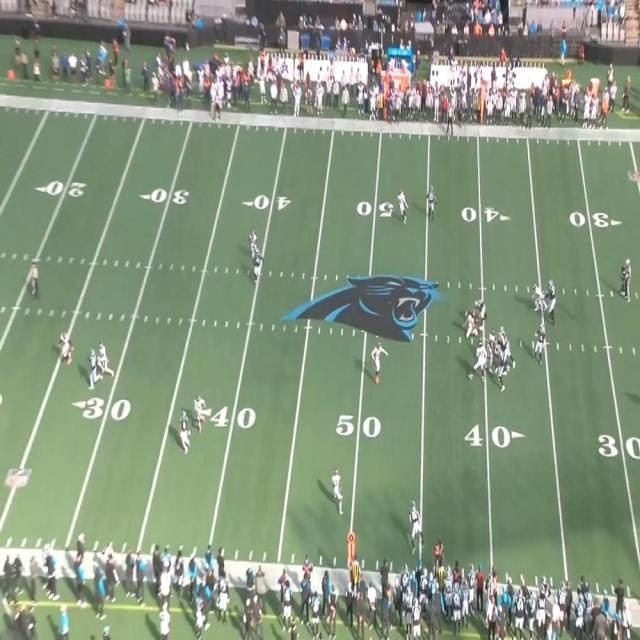db: (96, 344, 108, 383), (60, 334, 74, 366), (197, 395, 209, 431), (334, 470, 342, 514), (248, 228, 258, 258)
lb: (374, 340, 384, 385), (397, 192, 406, 226)
qb: (535, 324, 544, 361)
skill: (408, 501, 421, 554), (88, 349, 99, 388), (180, 409, 189, 452), (252, 247, 262, 278), (426, 187, 436, 217)
